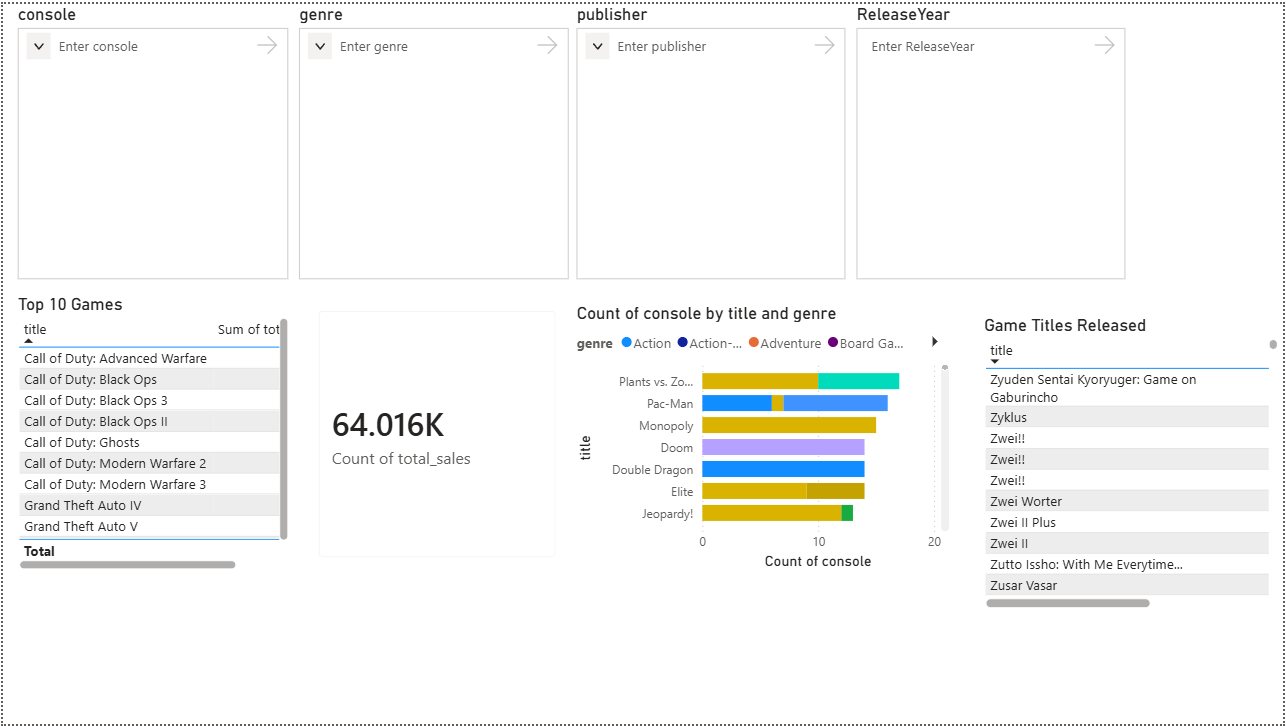

This screenshot's page, from the dashboard's own definition file:
{"tool":"powerbi","page":{"name":"Page 3","canvas":[1280,720],"ordinal":2},"visuals":[{"type":"textSlicer","fields":{"Values":["vgchartz-2024.console"]},"box":[10,0,280,280],"z":0},{"type":"textSlicer","fields":{"Values":["vgchartz-2024.genre"]},"box":[290.7,0,279.1,280.2],"z":1000},{"type":"textSlicer","fields":{"Values":["vgchartz-2024.publisher"]},"box":[568.8,0,278.8,280],"z":2000},{"type":"textSlicer","fields":{"Values":["vgchartz-2024.ReleaseYear"]},"box":[848.8,0,278.8,280],"z":3000},{"type":"tableEx","title":"Top 10 Games","fields":{"Values":["vgchartz-2024.title","Sum(vgchartz-2024.total_sales)"]},"box":[10,290,280,280],"z":4000},{"type":"cardVisual","fields":{"Data":["CountNonNull(vgchartz-2024.total_sales)"]},"box":[298.8,290,271.2,280],"z":5000},{"type":"barChart","fields":{"Y":["CountNonNull(vgchartz-2024.console)"],"Series":["vgchartz-2024.genre"],"Category":["vgchartz-2024.title"]},"box":[568.8,298.8,382.5,271.2],"z":6000},{"type":"tableEx","title":"Game Titles Released","fields":{"Values":["vgchartz-2024.title","vgchartz-2024.release_date.Variation.Date Hierarchy.Year","vgchartz-2024.release_date.Variation.Date Hierarchy.Quarter","vgchartz-2024.release_date.Variation.Date Hierarchy.Month","vgchartz-2024.release_date.Variation.Date Hierarchy.Day"]},"box":[976.2,311.2,303.8,297.5],"z":7000}]}

Visuals, with their boxes in screenshot pixels (x1, y1, x2, y2), scaled from the page's 1280x720 canvas onto the 1286x726 screenshot:
textSlicer - vgchartz-2024.console: <bbox>10, 0, 291, 282</bbox>
textSlicer - vgchartz-2024.genre: <bbox>292, 0, 572, 283</bbox>
textSlicer - vgchartz-2024.publisher: <bbox>571, 0, 852, 282</bbox>
textSlicer - vgchartz-2024.ReleaseYear: <bbox>853, 0, 1133, 282</bbox>
"Top 10 Games" tableEx: <bbox>10, 292, 291, 575</bbox>
cardVisual - CountNonNull(vgchartz-2024.total_sales): <bbox>300, 292, 573, 575</bbox>
barChart - CountNonNull(vgchartz-2024.console) x vgchartz-2024.genre: <bbox>571, 301, 956, 575</bbox>
"Game Titles Released" tableEx: <bbox>981, 314, 1285, 614</bbox>
